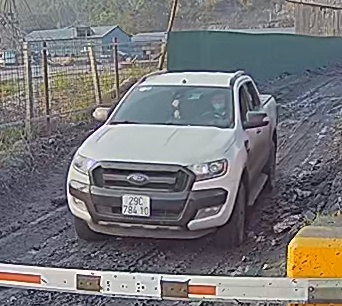vehicle plate: (120, 185, 152, 218)
